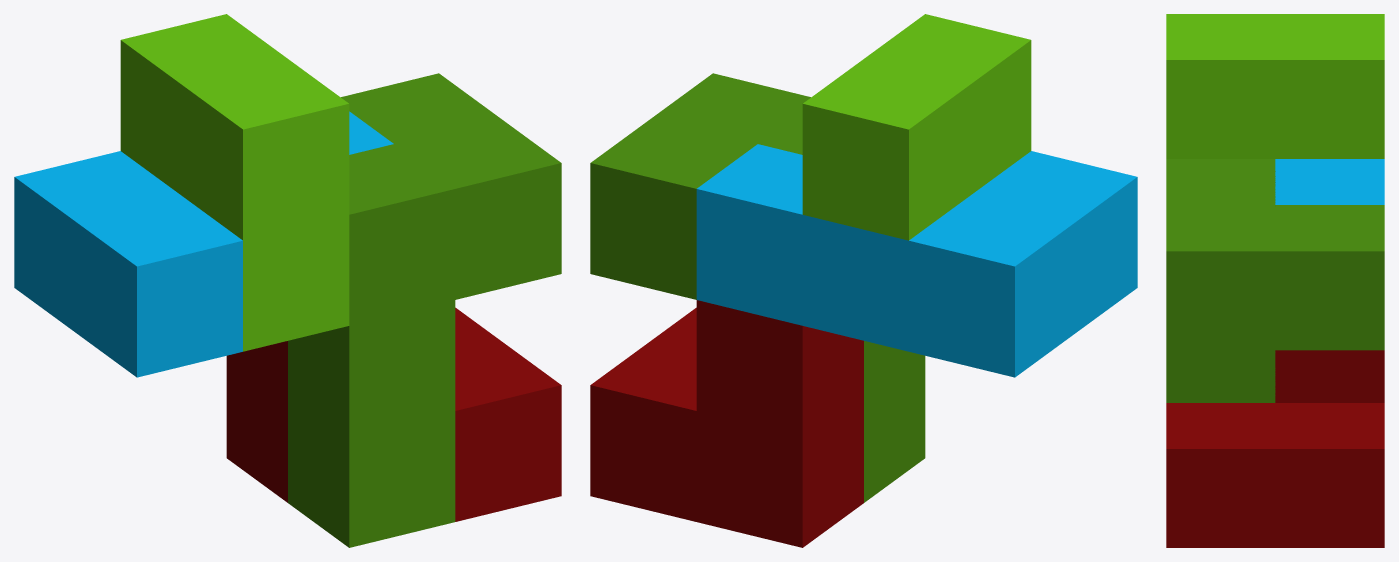
3 renders of one model, left to right at view 1: azimuth 30°, elevation 25°; view 2: azimuth 150°, elevation 25°; view 3: azimuth 270°, elevation 25°, orthographic. The views are drawn at different scales.
Visible parts, largest first — view 1: mergedBlocks(Clone); view 2: mergedBlocks(Clone); view 3: mergedBlocks(Clone).
Boxes of the visible parts, box(x1,y1,x2,y2) form: mergedBlocks(Clone): box(14, 14, 561, 547); mergedBlocks(Clone): box(590, 14, 1137, 547); mergedBlocks(Clone): box(1166, 14, 1384, 547).
Bounding box in the file's own units: 4 × 4 × 2.
4 materials, 4 textured.
